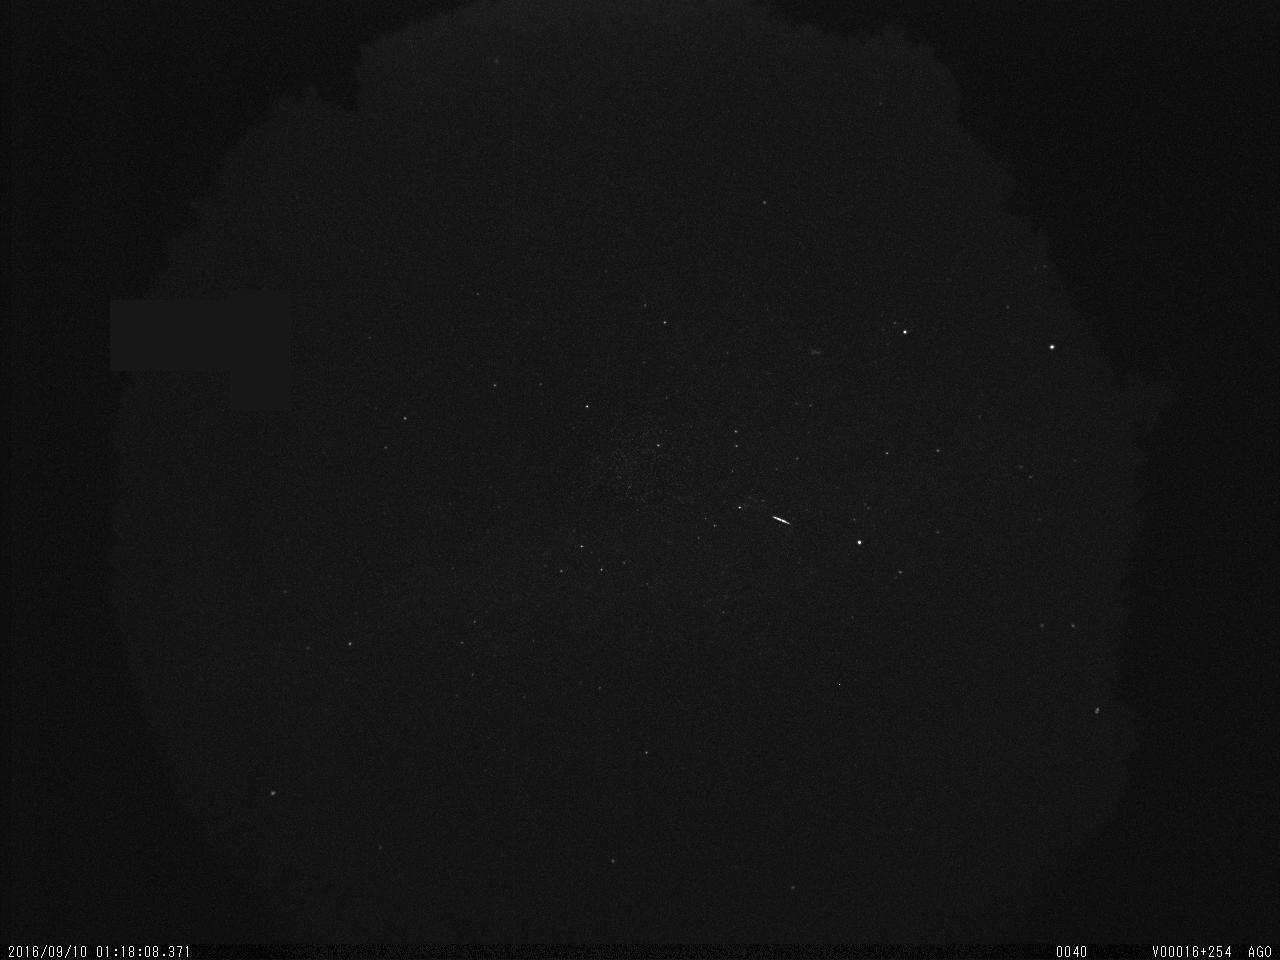Meteor: (770, 512, 793, 523)
